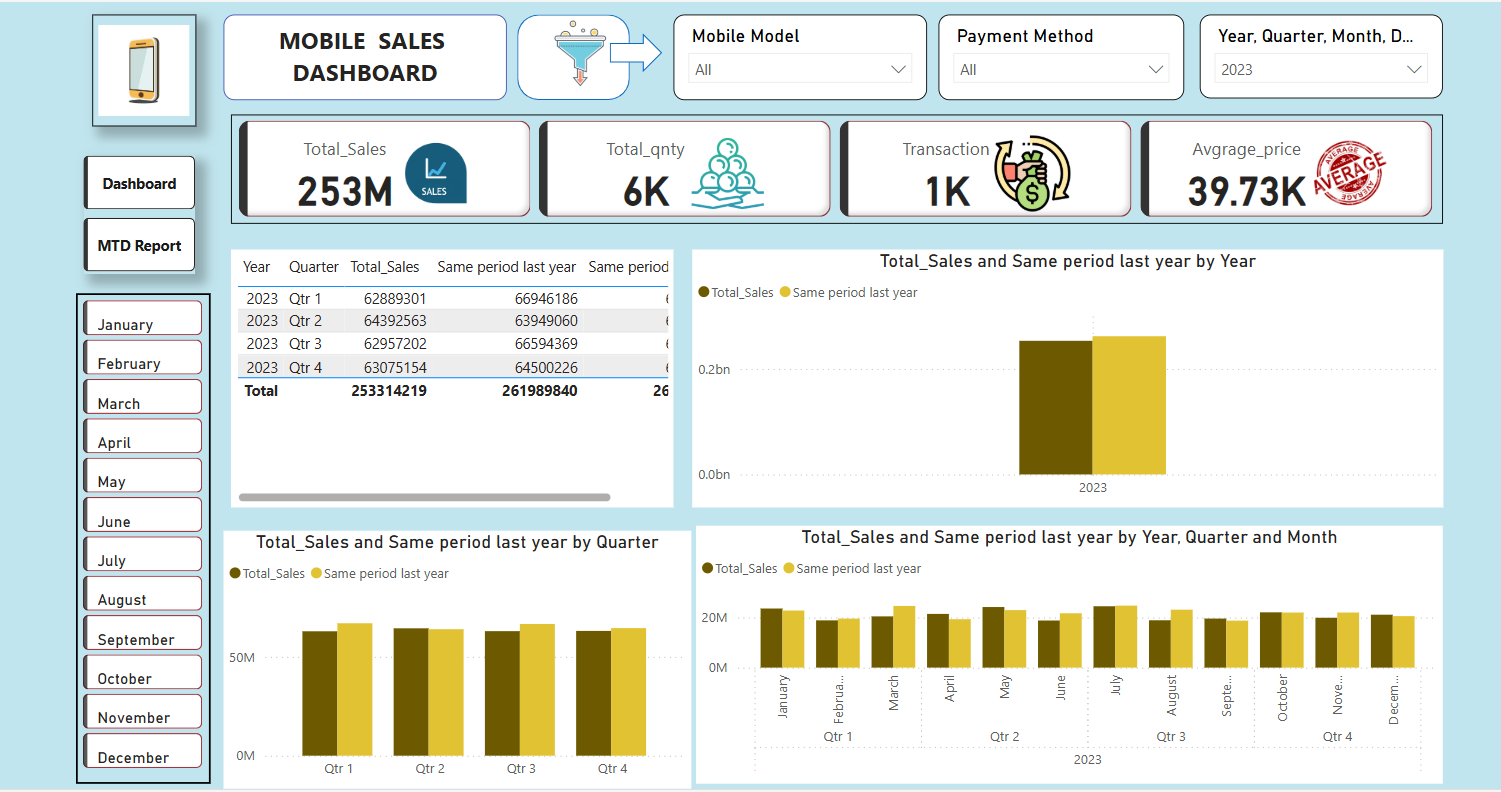

This screenshot's page, from the dashboard's own definition file:
{"tool":"powerbi","page":{"name":"Same Period Last Year","canvas":[1280,720],"ordinal":2},"visuals":[{"type":"advancedSlicerVisual","fields":{"Values":["Custom_Calendar.Date.Variation.Date Hierarchy.Month"]},"box":[13.4,266.6,123.5,448.8],"z":0},{"type":"cardVisual","fields":{"Data":["Sales_Data.Total_Sales","Sales_Data.Total_qnty","Sales_Data.Transaction","Sales_Data.Avgrage_price"]},"box":[155.1,102.9,1108.8,100.2],"z":1000},{"type":"slicer","fields":{"Values":["Sales_Data.Mobile Model"]},"box":[559.9,11,231.9,78.2],"z":2000},{"type":"slicer","fields":{"Values":["Sales_Data.Payment Method"]},"box":[802.8,11,225,78.2],"z":3000},{"type":"shape","box":[418,11,102.9,78.2],"z":4000},{"type":"slicer","fields":{"Values":["Custom_Calendar.Date.Variation.Date Hierarchy.Year","Custom_Calendar.Date.Variation.Date Hierarchy.Quarter","Custom_Calendar.Date.Variation.Date Hierarchy.Month","Custom_Calendar.Date.Variation.Date Hierarchy.Day"]},"box":[1041.5,11,222.3,76.8],"z":5000},{"type":"image","box":[440.5,11,70,71.4],"z":6000},{"type":"shape","box":[502.2,28.8,48,35.7],"z":7000},{"type":"textbox","box":[149.2,11,259.2,78.3],"z":8000},{"type":"tableEx","fields":{"Values":["Custom_Calendar.Date.Variation.Date Hierarchy.Year","Custom_Calendar.Date.Variation.Date Hierarchy.Quarter","Sales_Data.Total_Sales","Sales_Data.Same period last year","Sales_Data.Same period last year"]},"box":[155.3,226.2,404.8,236],"z":9000},{"type":"clusteredColumnChart","fields":{"Category":["Custom_Calendar.Date.Variation.Date Hierarchy.Year","Custom_Calendar.Date.Variation.Date Hierarchy.Quarter"],"Y":["Sales_Data.Total_Sales","Sales_Data.Same period last year"]},"box":[577.2,226.2,687.2,236],"z":10000},{"type":"clusteredColumnChart","fields":{"Y":["Sales_Data.Total_Sales","Sales_Data.Same period last year"],"Category":["Custom_Calendar.Date.Variation.Date Hierarchy.Year","Custom_Calendar.Date.Variation.Date Hierarchy.Quarter","Custom_Calendar.Date.Variation.Date Hierarchy.Month","Custom_Calendar.Date.Variation.Date Hierarchy.Day"]},"box":[580.9,479.4,683.6,236],"z":11000},{"type":"clusteredColumnChart","fields":{"Category":["Custom_Calendar.Date.Variation.Date Hierarchy.Year","Custom_Calendar.Date.Variation.Date Hierarchy.Quarter"],"Y":["Sales_Data.Total_Sales","Sales_Data.Same period last year"]},"box":[149.2,484.2,428,236],"z":12000},{"type":"pageNavigator","box":[20.8,140.6,102.7,107.6],"z":13000},{"type":"image","box":[28.1,11,95.4,102.7],"z":14000}]}

Visuals, with their boxes on the page's 1280x720 design canvas (x1, y1, x2, y2). These are canvas units, not pixel positions in the 1501x792 screenshot, which may show the page scaled, cropped or inside an application window:
advancedSlicerVisual - Custom_Calendar.Date.Variation.Date Hierarchy.Month: left=13, top=267, right=137, bottom=715
cardVisual - Sales_Data.Total_Sales x Sales_Data.Total_qnty: left=155, top=103, right=1264, bottom=203
slicer - Sales_Data.Mobile Model: left=560, top=11, right=792, bottom=89
slicer - Sales_Data.Payment Method: left=803, top=11, right=1028, bottom=89
shape: left=418, top=11, right=521, bottom=89
slicer - Custom_Calendar.Date.Variation.Date Hierarchy.Year x Custom_Calendar.Date.Variation.Date Hierarchy.Quarter: left=1042, top=11, right=1264, bottom=88
image: left=440, top=11, right=510, bottom=82
shape: left=502, top=29, right=550, bottom=64
textbox: left=149, top=11, right=408, bottom=89
tableEx - Custom_Calendar.Date.Variation.Date Hierarchy.Year x Custom_Calendar.Date.Variation.Date Hierarchy.Quarter: left=155, top=226, right=560, bottom=462
clusteredColumnChart - Custom_Calendar.Date.Variation.Date Hierarchy.Year x Custom_Calendar.Date.Variation.Date Hierarchy.Quarter: left=577, top=226, right=1264, bottom=462
clusteredColumnChart - Sales_Data.Total_Sales x Sales_Data.Same period last year: left=581, top=479, right=1264, bottom=715
clusteredColumnChart - Custom_Calendar.Date.Variation.Date Hierarchy.Year x Custom_Calendar.Date.Variation.Date Hierarchy.Quarter: left=149, top=484, right=577, bottom=720
pageNavigator: left=21, top=141, right=124, bottom=248
image: left=28, top=11, right=124, bottom=114
